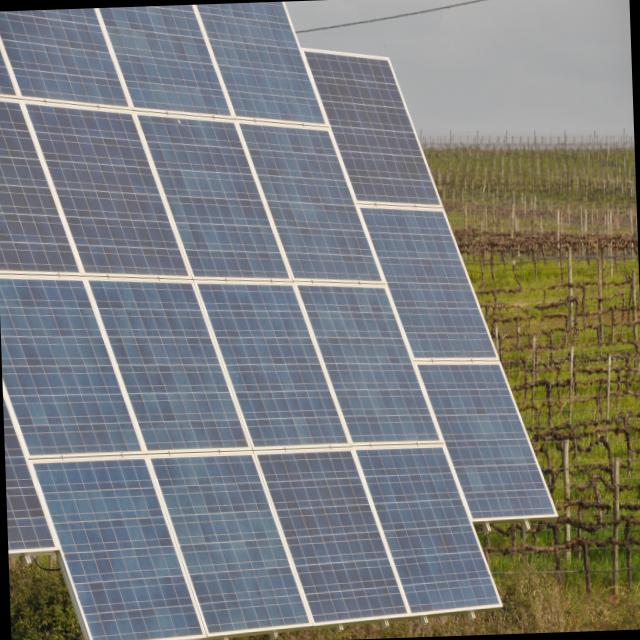no faulty: (0, 6, 557, 640)
